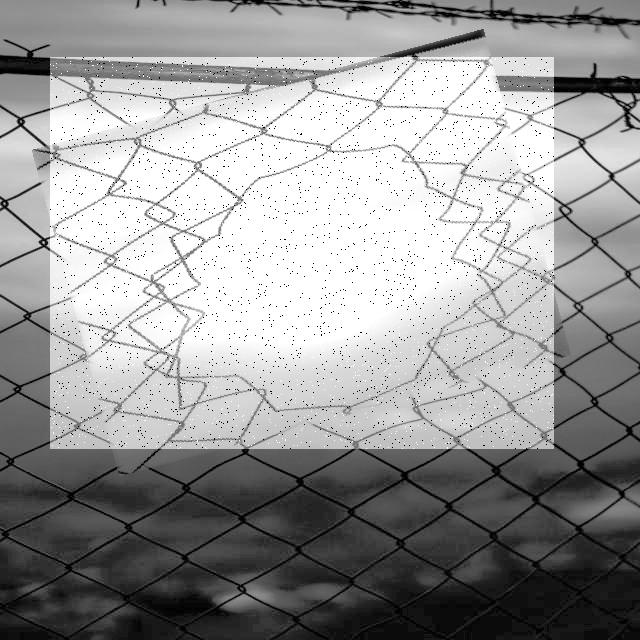anomaly-fence: (50, 57, 554, 449)
